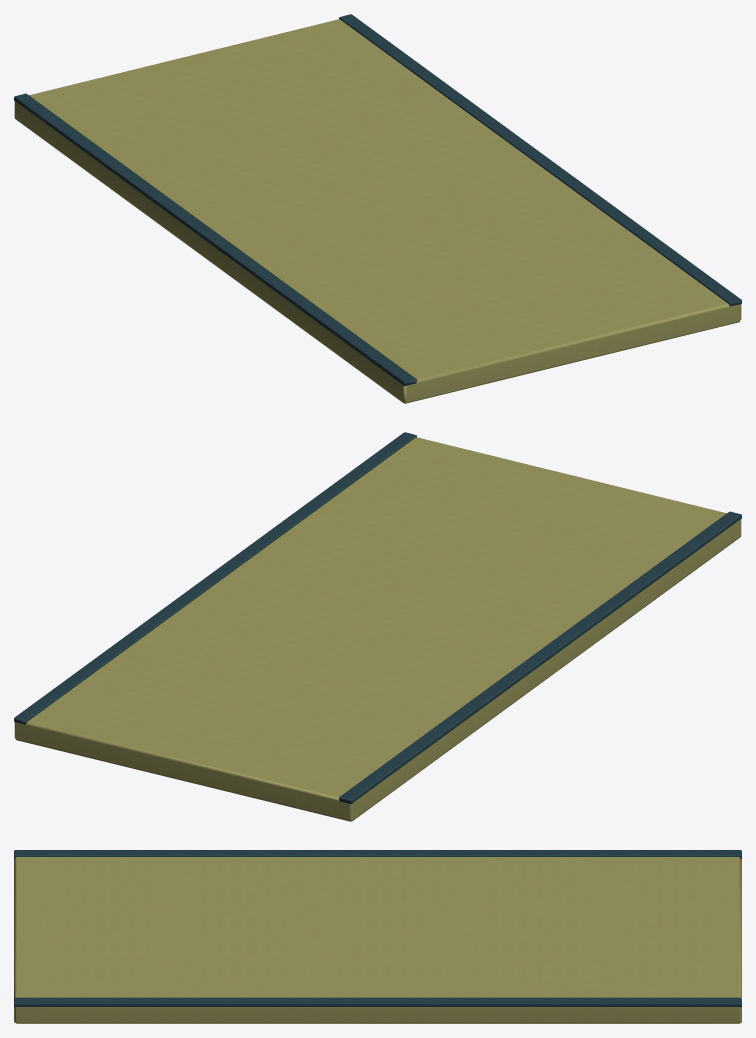
File: tatami.gltf
3 renders of one model, top to bottom at view 1: azimuth 30°, elevation 25°; view 2: azimuth 150°, elevation 25°; view 3: azimuth 270°, elevation 25°, orthographic. The views are drawn at different scales.
Size of the model in its own units: 0.9 by 0.059 by 1.8.
2 materials, 2 textured.
